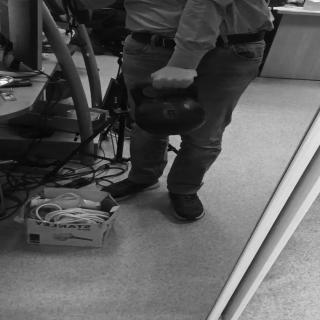kettlebell: (131, 78, 211, 135)
